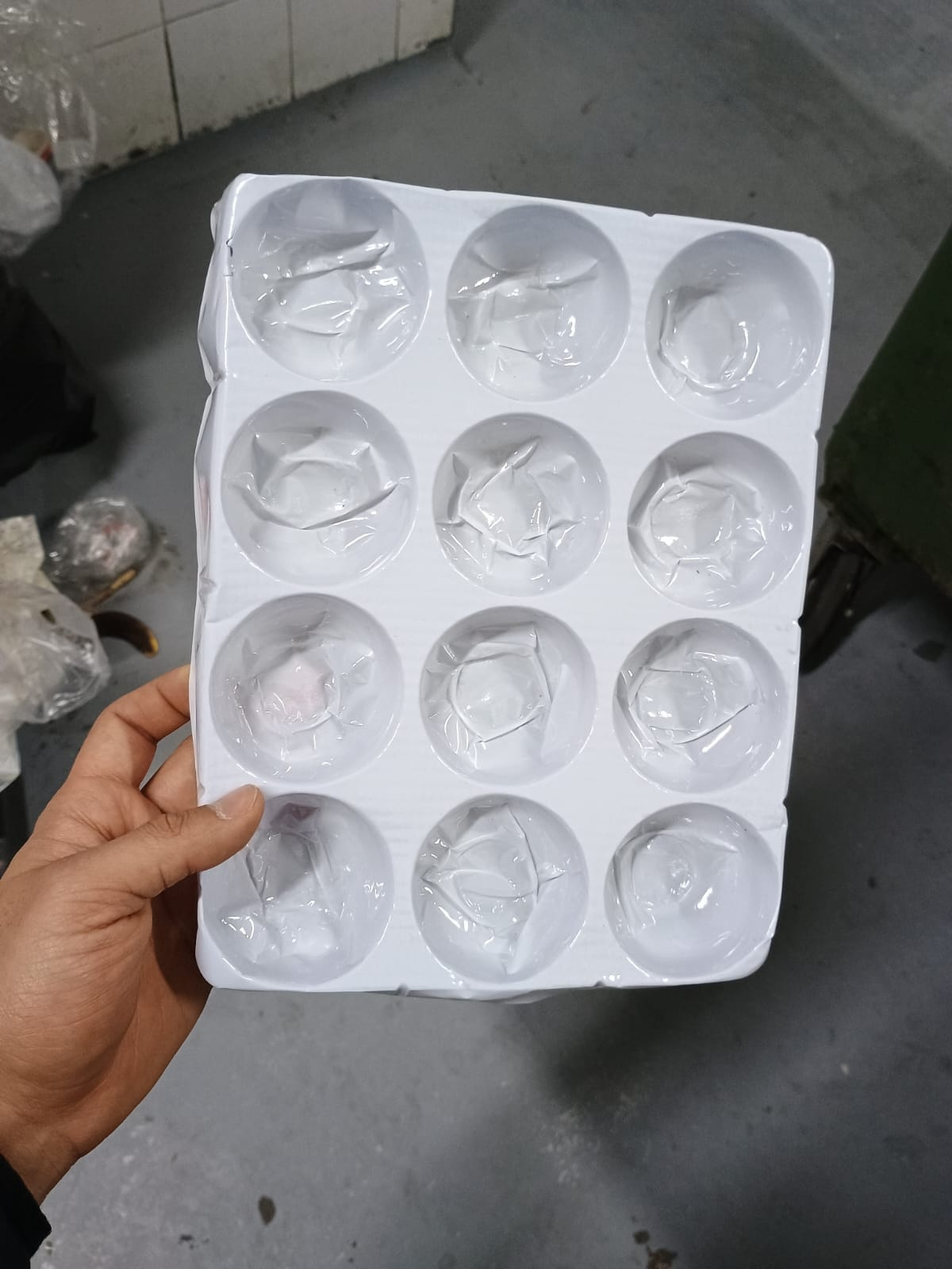Ordinario: (189, 172, 836, 1000)
